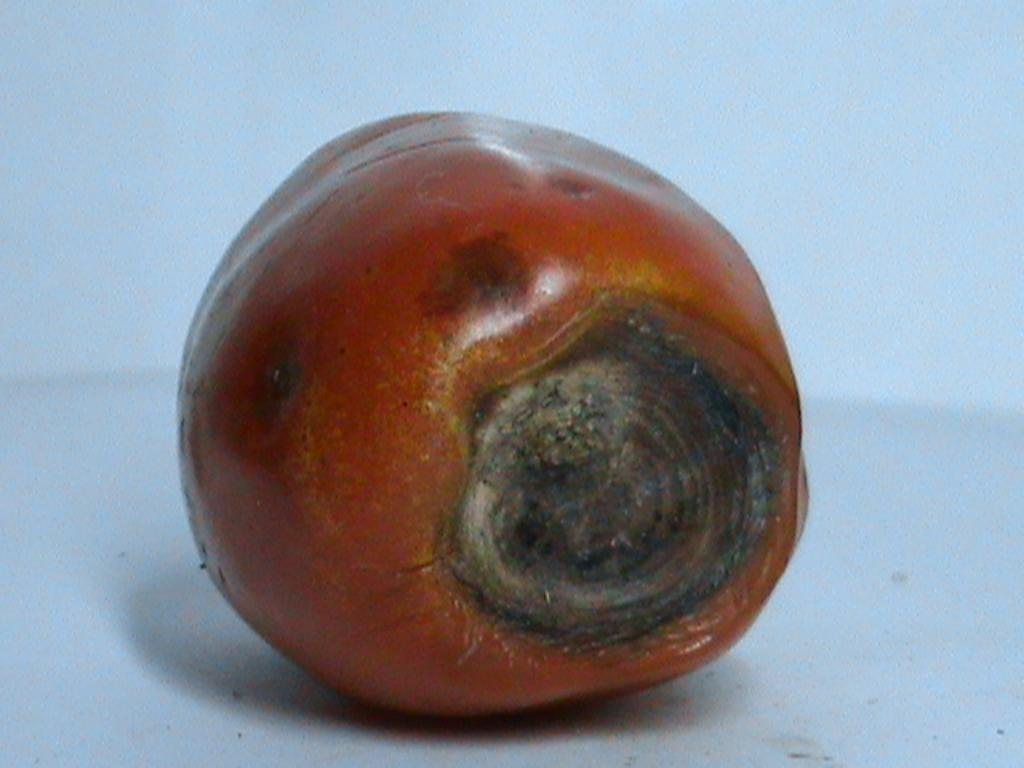rot_mold_decay: (442, 301, 790, 654), (424, 234, 528, 312), (258, 354, 299, 416)
tomato: (179, 114, 805, 714)
